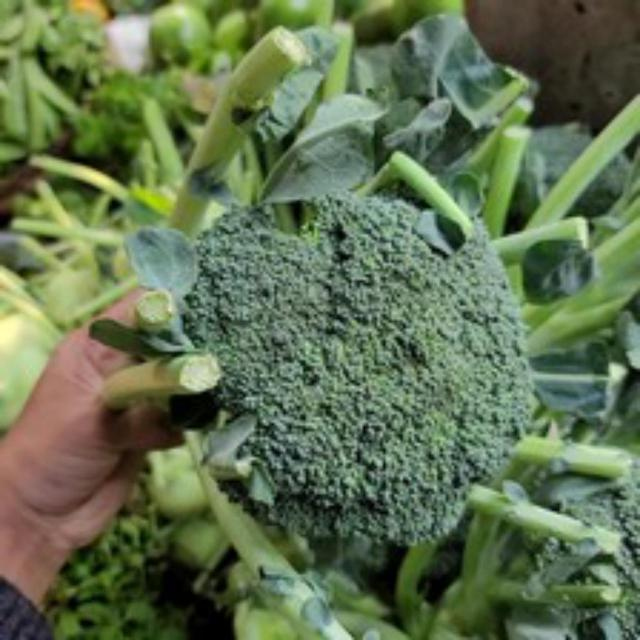broccoli: (156, 175, 552, 559)
